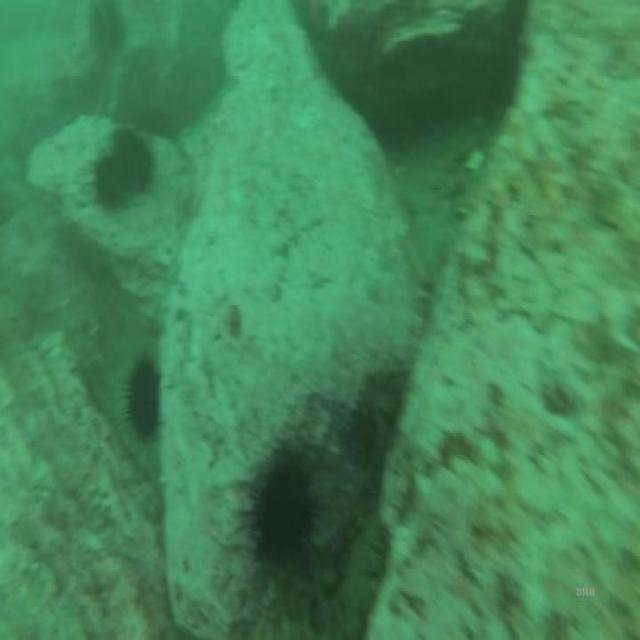echinus: (248, 450, 318, 574), (121, 352, 161, 442), (114, 126, 160, 196), (89, 148, 135, 216), (86, 0, 129, 57)
